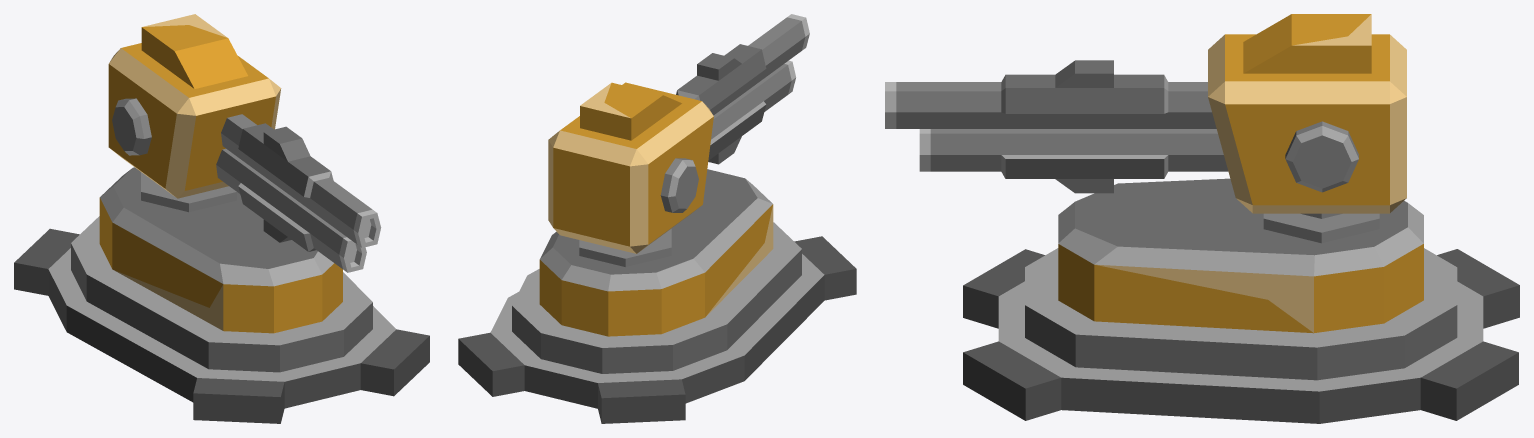
File: tower_lethal_yellow_2.fbx
3 views of the same model, side by side, from view 1: azimuth 30°, elevation 25°; view 2: azimuth 150°, elevation 25°; view 3: azimuth 270°, elevation 25° (orthographic). The views are drawn at different scales.
Parts seen in each view (by area): view 1: tower_lethal_yellow_2, top_lethal_yellow_2; view 2: tower_lethal_yellow_2, top_lethal_yellow_2; view 3: tower_lethal_yellow_2, top_lethal_yellow_2.
Part boxes in pixels (x1,y1,x2,y2): tower_lethal_yellow_2: (14, 167, 429, 423); top_lethal_yellow_2: (108, 14, 381, 272); tower_lethal_yellow_2: (458, 169, 856, 423); top_lethal_yellow_2: (548, 14, 809, 266); tower_lethal_yellow_2: (963, 178, 1519, 423); top_lethal_yellow_2: (885, 14, 1406, 243).
Size of the model in its own units: 124 by 128 by 229.
